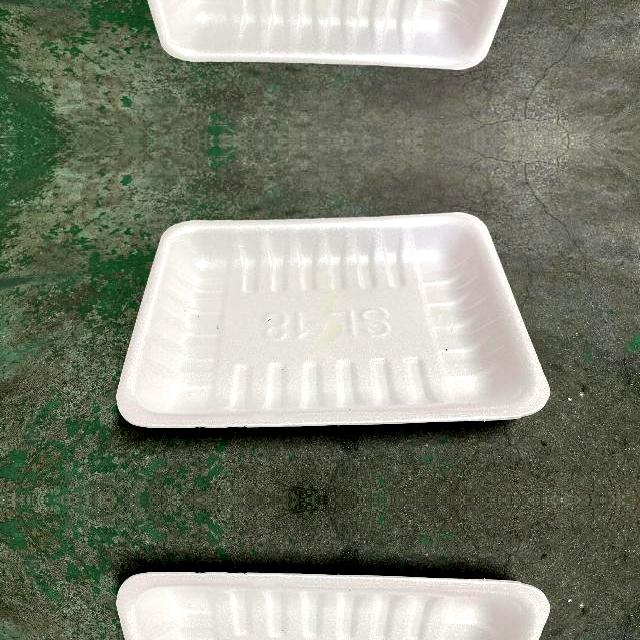Styrofoam: (115, 210, 550, 428), (116, 211, 551, 428), (115, 569, 550, 640), (116, 570, 551, 640), (115, 0, 550, 70), (147, 0, 508, 69)
